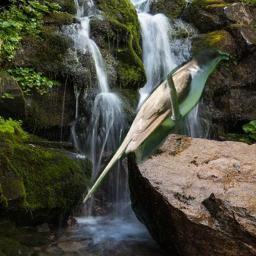Cuckoo: (80, 47, 229, 206)
